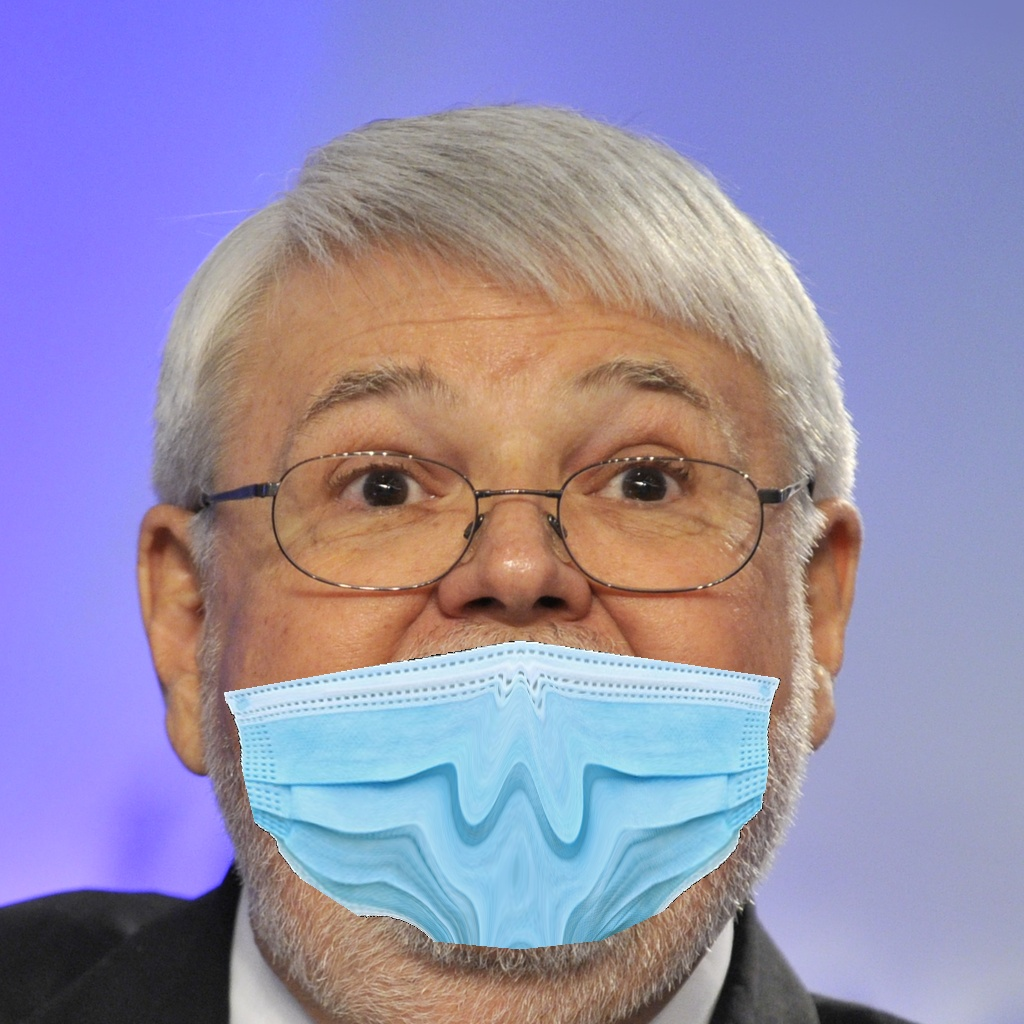mascarilla_mal_puesta: (187, 325, 829, 985)
